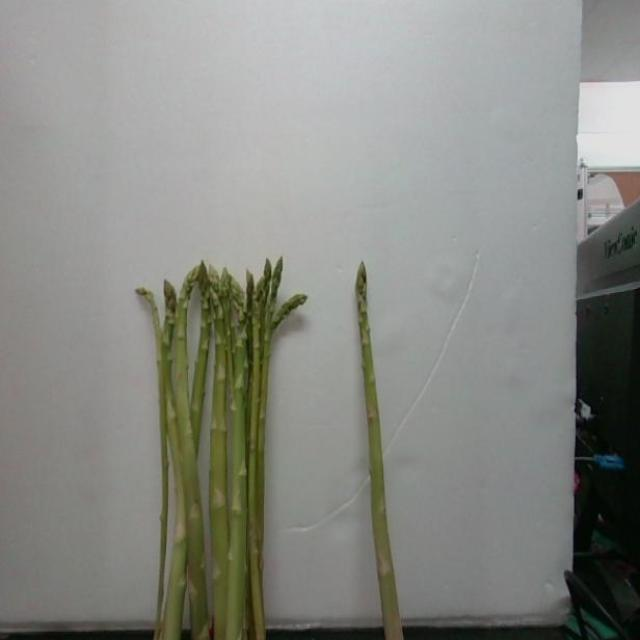aspargus: (355, 264, 406, 640), (175, 264, 210, 640)
